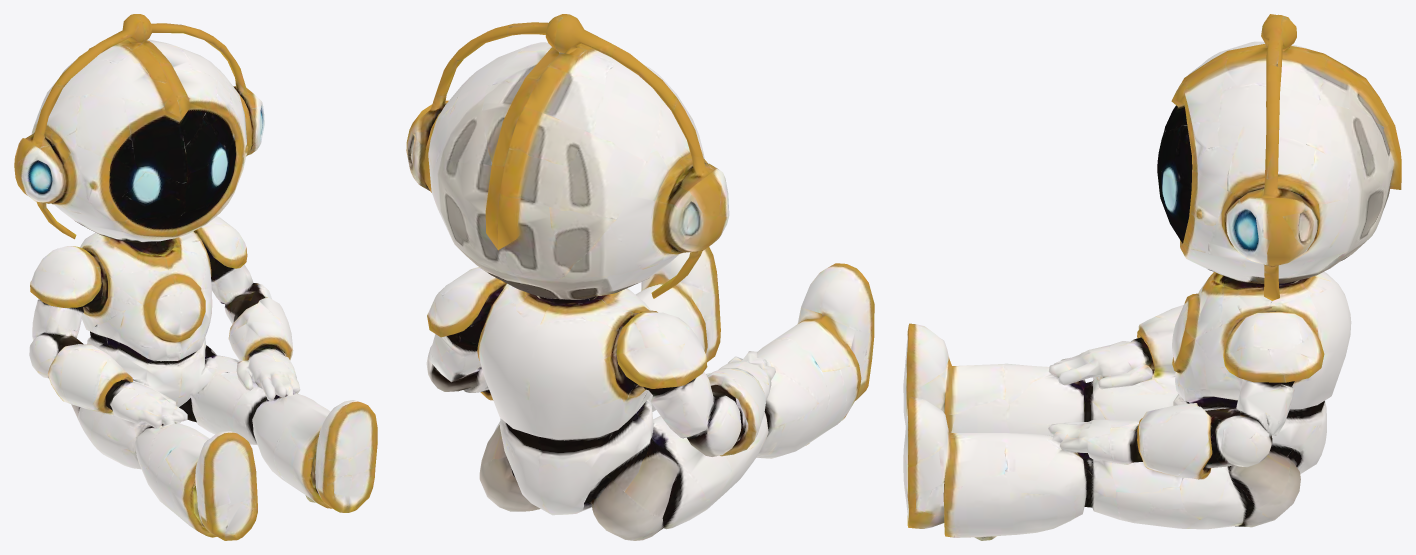
The model's file is atlas-sit.glb.
3 views of the same model, side by side, from view 1: azimuth 30°, elevation 25°; view 2: azimuth 150°, elevation 25°; view 3: azimuth 270°, elevation 25° (orthographic). The views are drawn at different scales.
Parts seen in each view (by area): view 1: Mesh_0; view 2: Mesh_0; view 3: Mesh_0.
Part boxes in pixels (x1,y1,x2,y2): Mesh_0: [14, 14, 377, 540]; Mesh_0: [406, 14, 874, 540]; Mesh_0: [903, 14, 1401, 540].
Bounding box in the file's own units: 0.0742 × 0.1198 × 0.1112.
Materials: 1 (1 with a texture image).
